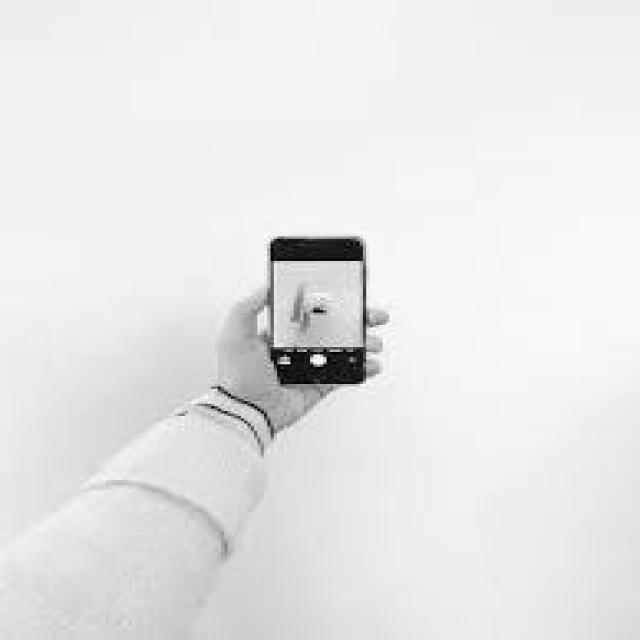No gun_phone: (271, 235, 372, 385)
